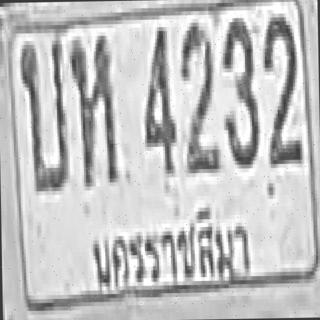A26: (18, 36, 68, 191)
A41: (69, 32, 118, 187)
N02: (178, 20, 217, 171), (180, 20, 219, 171), (263, 13, 301, 164)
N03: (220, 15, 258, 166)
N04: (142, 23, 176, 174)
P30: (85, 198, 259, 298)
